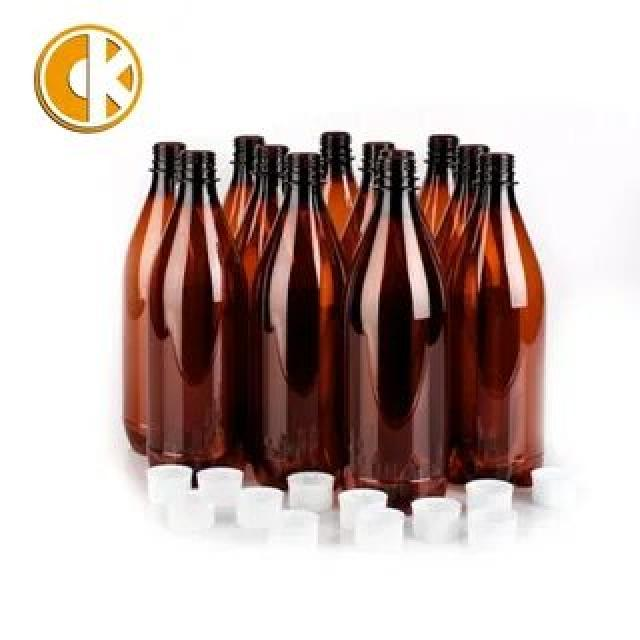brown: (243, 150, 346, 472), (348, 152, 442, 503), (452, 154, 546, 481), (144, 152, 232, 464)
